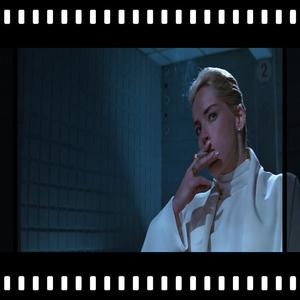cigarette: (192, 152, 212, 159)
